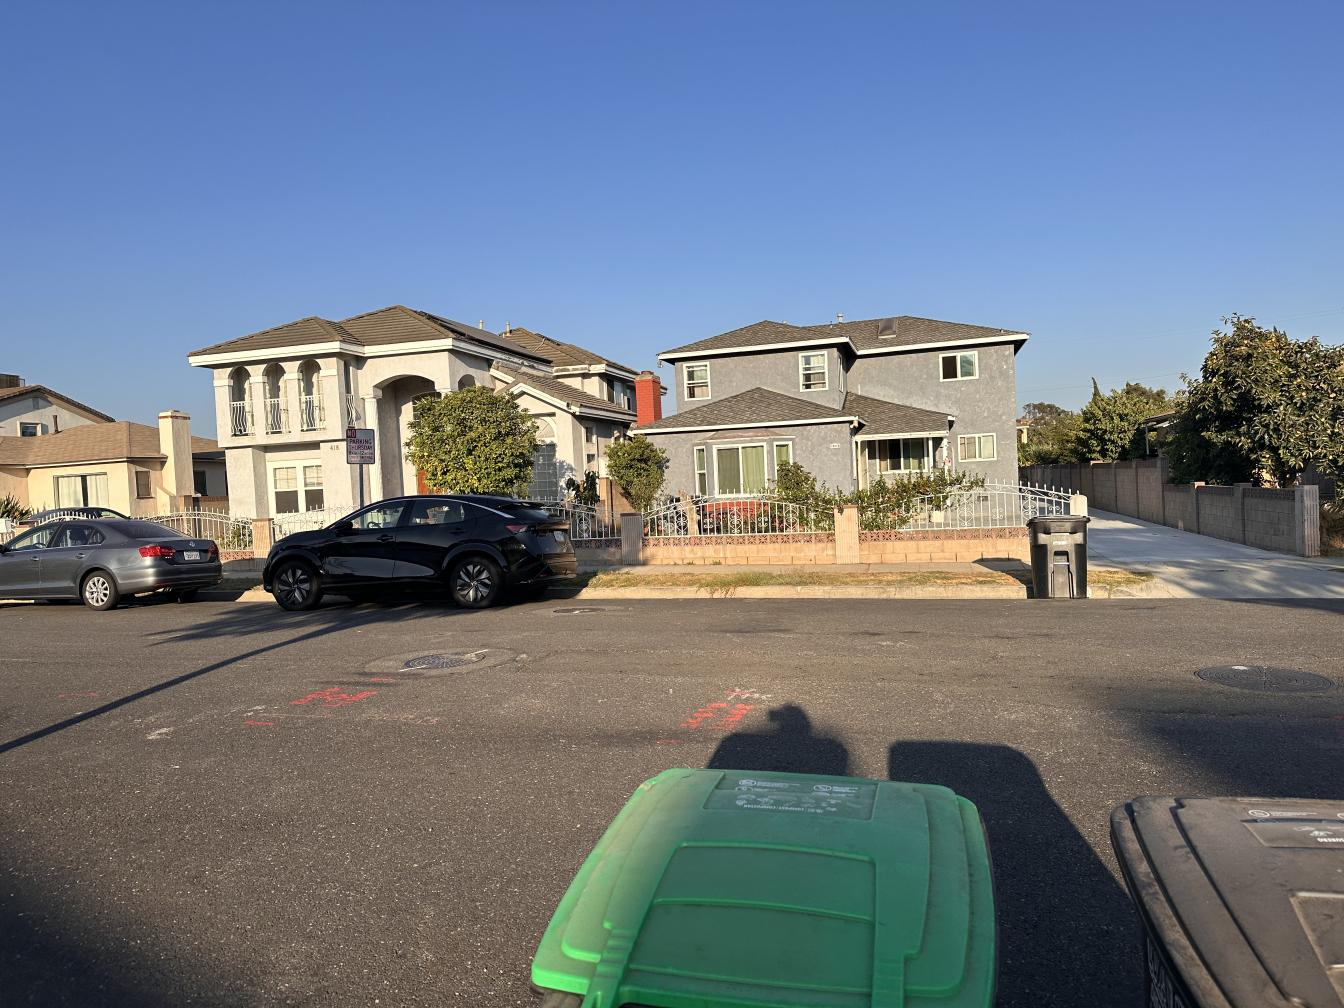curbs-laRr: (584, 582, 1032, 602)
